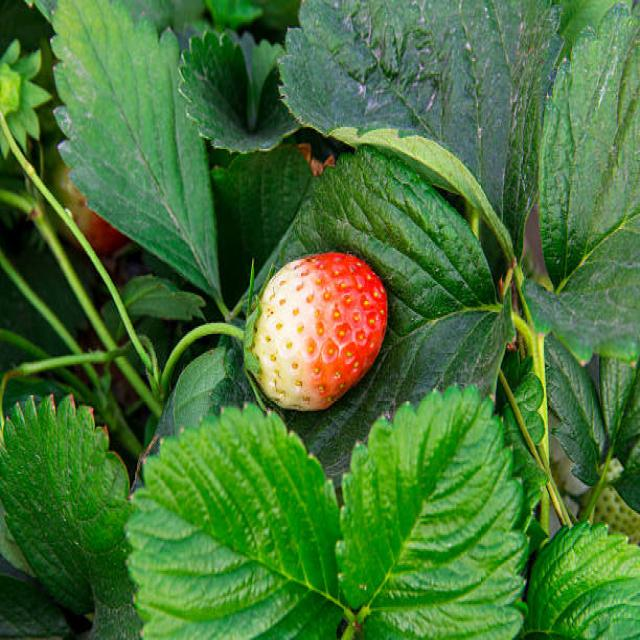Healthy Fruit: (255, 252, 388, 412)
